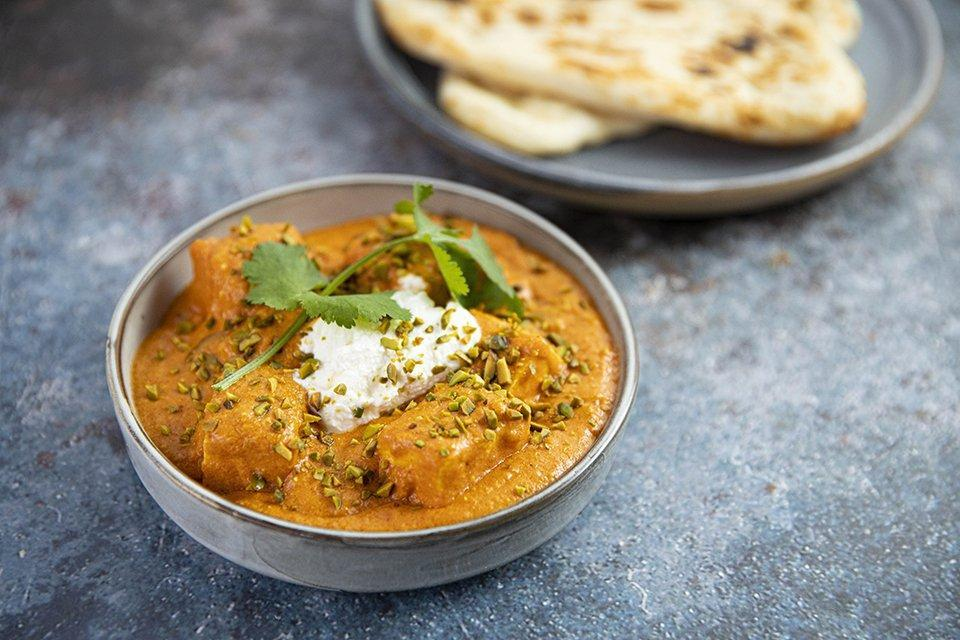paneer: (225, 263, 494, 492)
roti: (425, 1, 848, 86)
